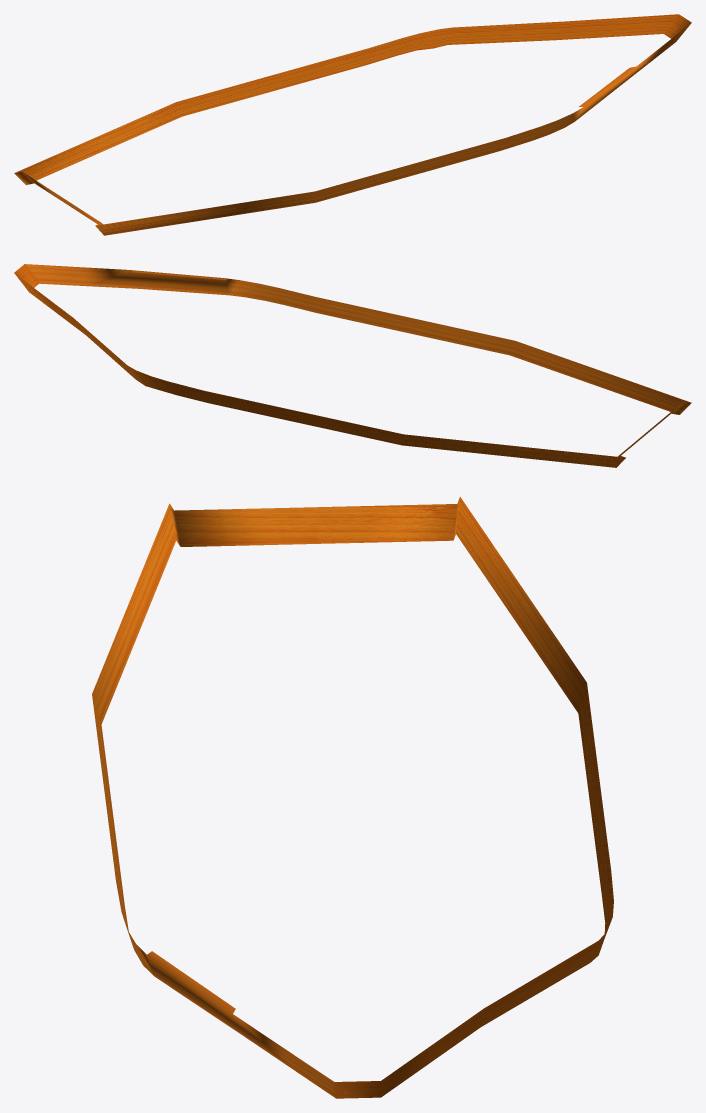
File: cube.108_lev2.glb
3 renders of one model, top to bottom at view 1: azimuth 30°, elevation 25°; view 2: azimuth 150°, elevation 25°; view 3: azimuth 270°, elevation 25°, orthographic. The views are drawn at different scales.
Parts seen in each view (by area): view 1: cube.108_lev2; view 2: cube.108_lev2; view 3: cube.108_lev2.
Boxes of the visible parts, x1=… form: cube.108_lev2: x1=14, y1=14, x2=691, y2=235; cube.108_lev2: x1=14, y1=264, x2=691, y2=467; cube.108_lev2: x1=92, y1=497, x2=613, y2=1098.
Bounding box in the file's own units: 6.39 × 0.2871 × 2.28.
Materials: 1 (1 with a texture image).
